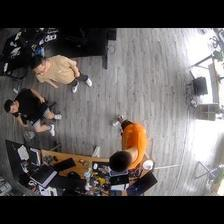normal: (3, 87, 62, 138), (32, 54, 93, 94), (109, 114, 148, 172)
